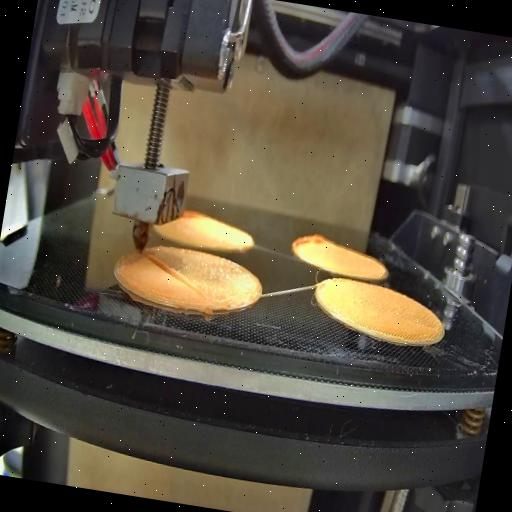over_extrusion: (138, 252, 210, 298), (288, 223, 331, 263), (181, 205, 204, 223)
